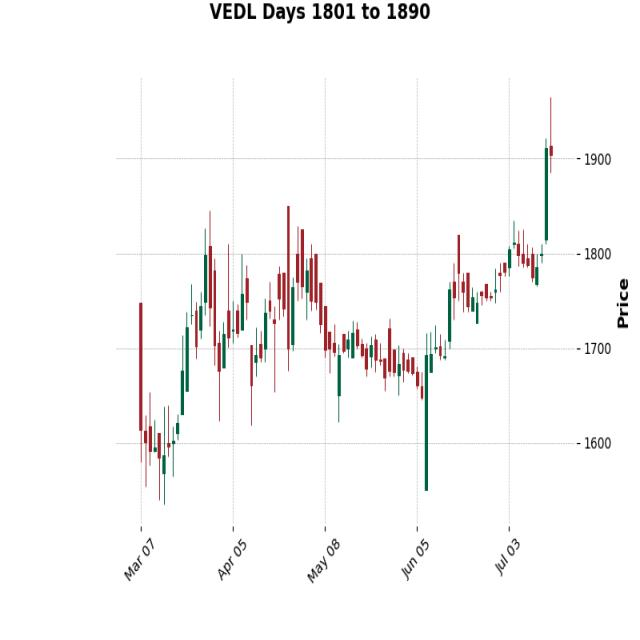Triple Bottom Reversal: (300, 274, 467, 506)
